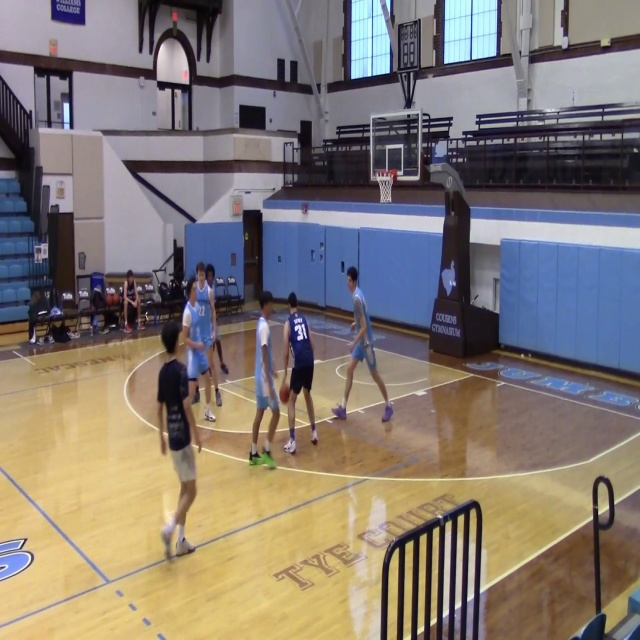Basketball: (105, 291, 120, 307), (279, 382, 290, 403)
